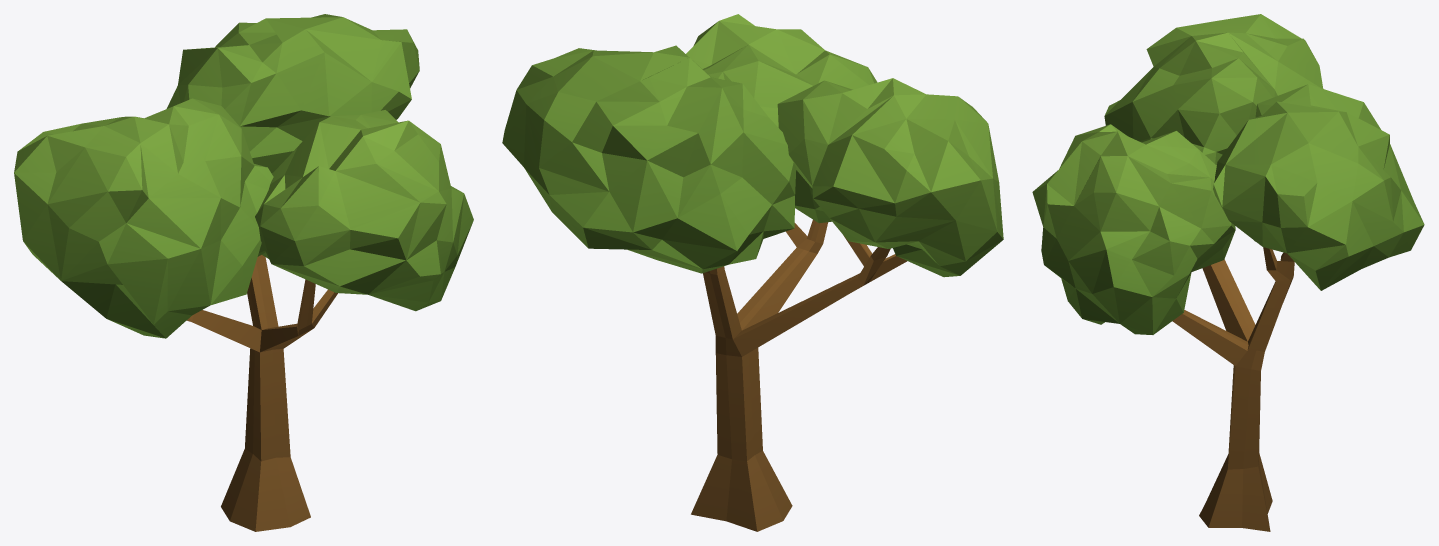
Rendered from Tree2.glb.
3 views of the same model, side by side, from view 1: azimuth 30°, elevation 25°; view 2: azimuth 150°, elevation 25°; view 3: azimuth 270°, elevation 25° (orthographic). The views are drawn at different scales.
Visible parts, largest first — view 1: Tree_average_regular; view 2: Tree_average_regular; view 3: Tree_average_regular.
Boxes of the visible parts, x1,y1,x2,y2 form: Tree_average_regular: [14, 14, 473, 531]; Tree_average_regular: [502, 14, 1003, 531]; Tree_average_regular: [1032, 14, 1424, 531].
Bounding box in the file's own units: 14.69 × 14.62 × 12.04.
1 material, 1 textured.
